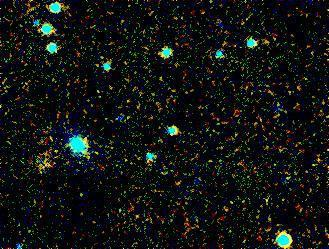star: (40, 139, 70, 169)
